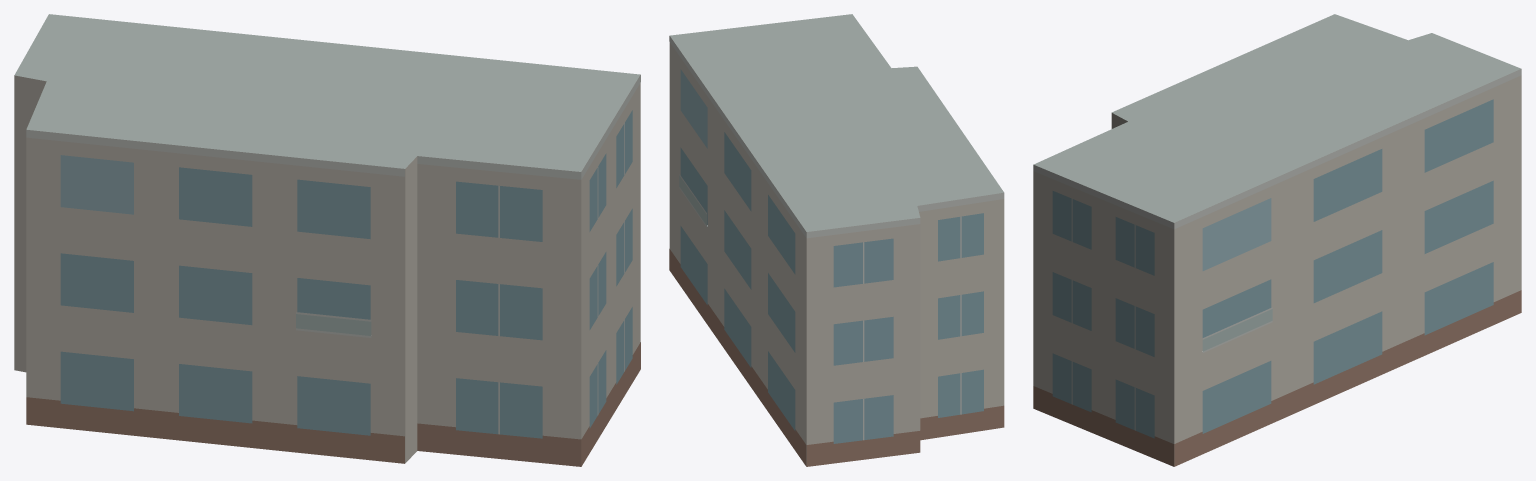
The model's file is survey-upis-32716648.glb.
The picture shows the model from 3 angles, left to right: view 1: azimuth 30°, elevation 25°; view 2: azimuth 150°, elevation 25°; view 3: azimuth 270°, elevation 25°; orthographic projection. The views are drawn at different scales.
Parts seen in each view (by area): view 1: survey-upis-32716648.tmp; view 2: survey-upis-32716648.tmp; view 3: survey-upis-32716648.tmp.
Part boxes in pixels (bbox=[...]): survey-upis-32716648.tmp: bbox=[14, 14, 640, 466]; survey-upis-32716648.tmp: bbox=[669, 14, 1004, 466]; survey-upis-32716648.tmp: bbox=[1033, 14, 1521, 466].
Size of the model in its own units: 16.81 by 9.15 by 16.6.
